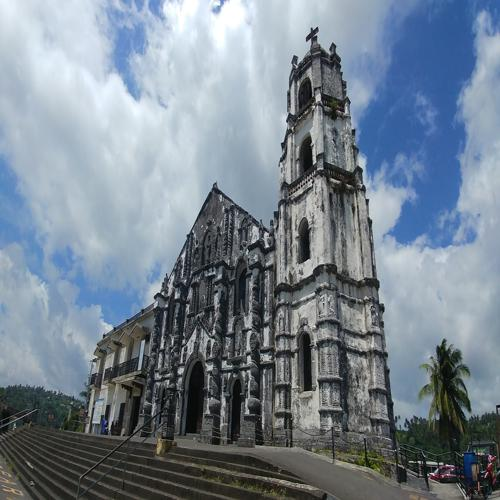Daraga Church: (146, 14, 400, 461)
